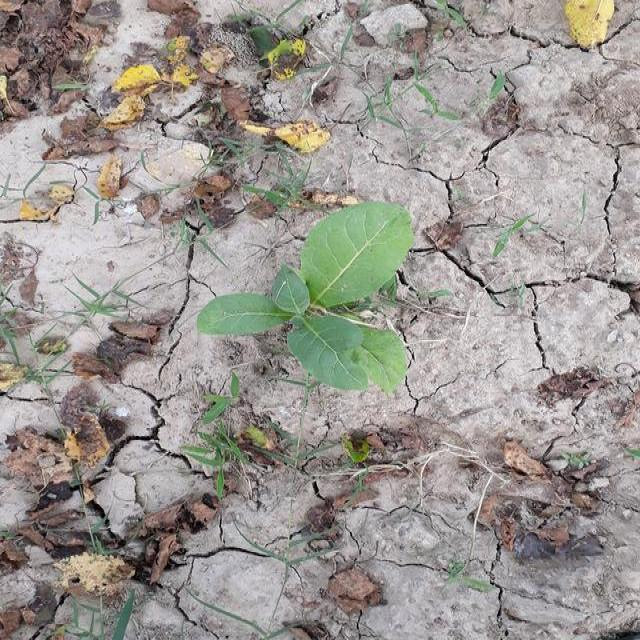crop: (212, 212, 427, 396)
